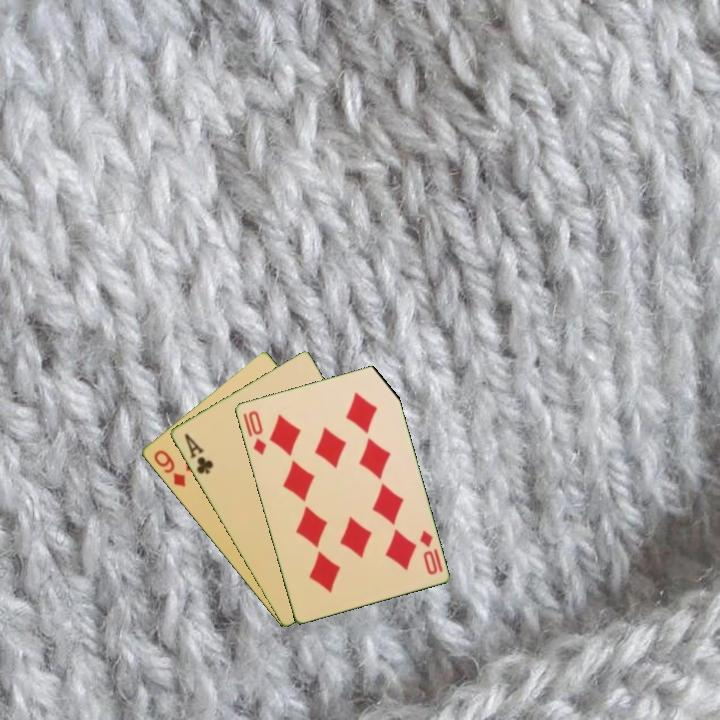10d: (244, 407, 269, 458), (416, 527, 440, 578)
9d: (150, 446, 188, 490)
Ac: (180, 430, 216, 477)
